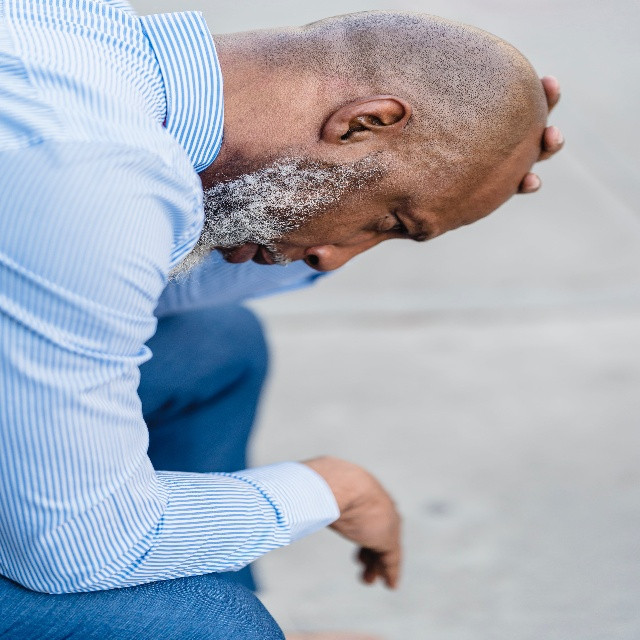Sin_guantes: (328, 456, 408, 591), (519, 63, 565, 196)
